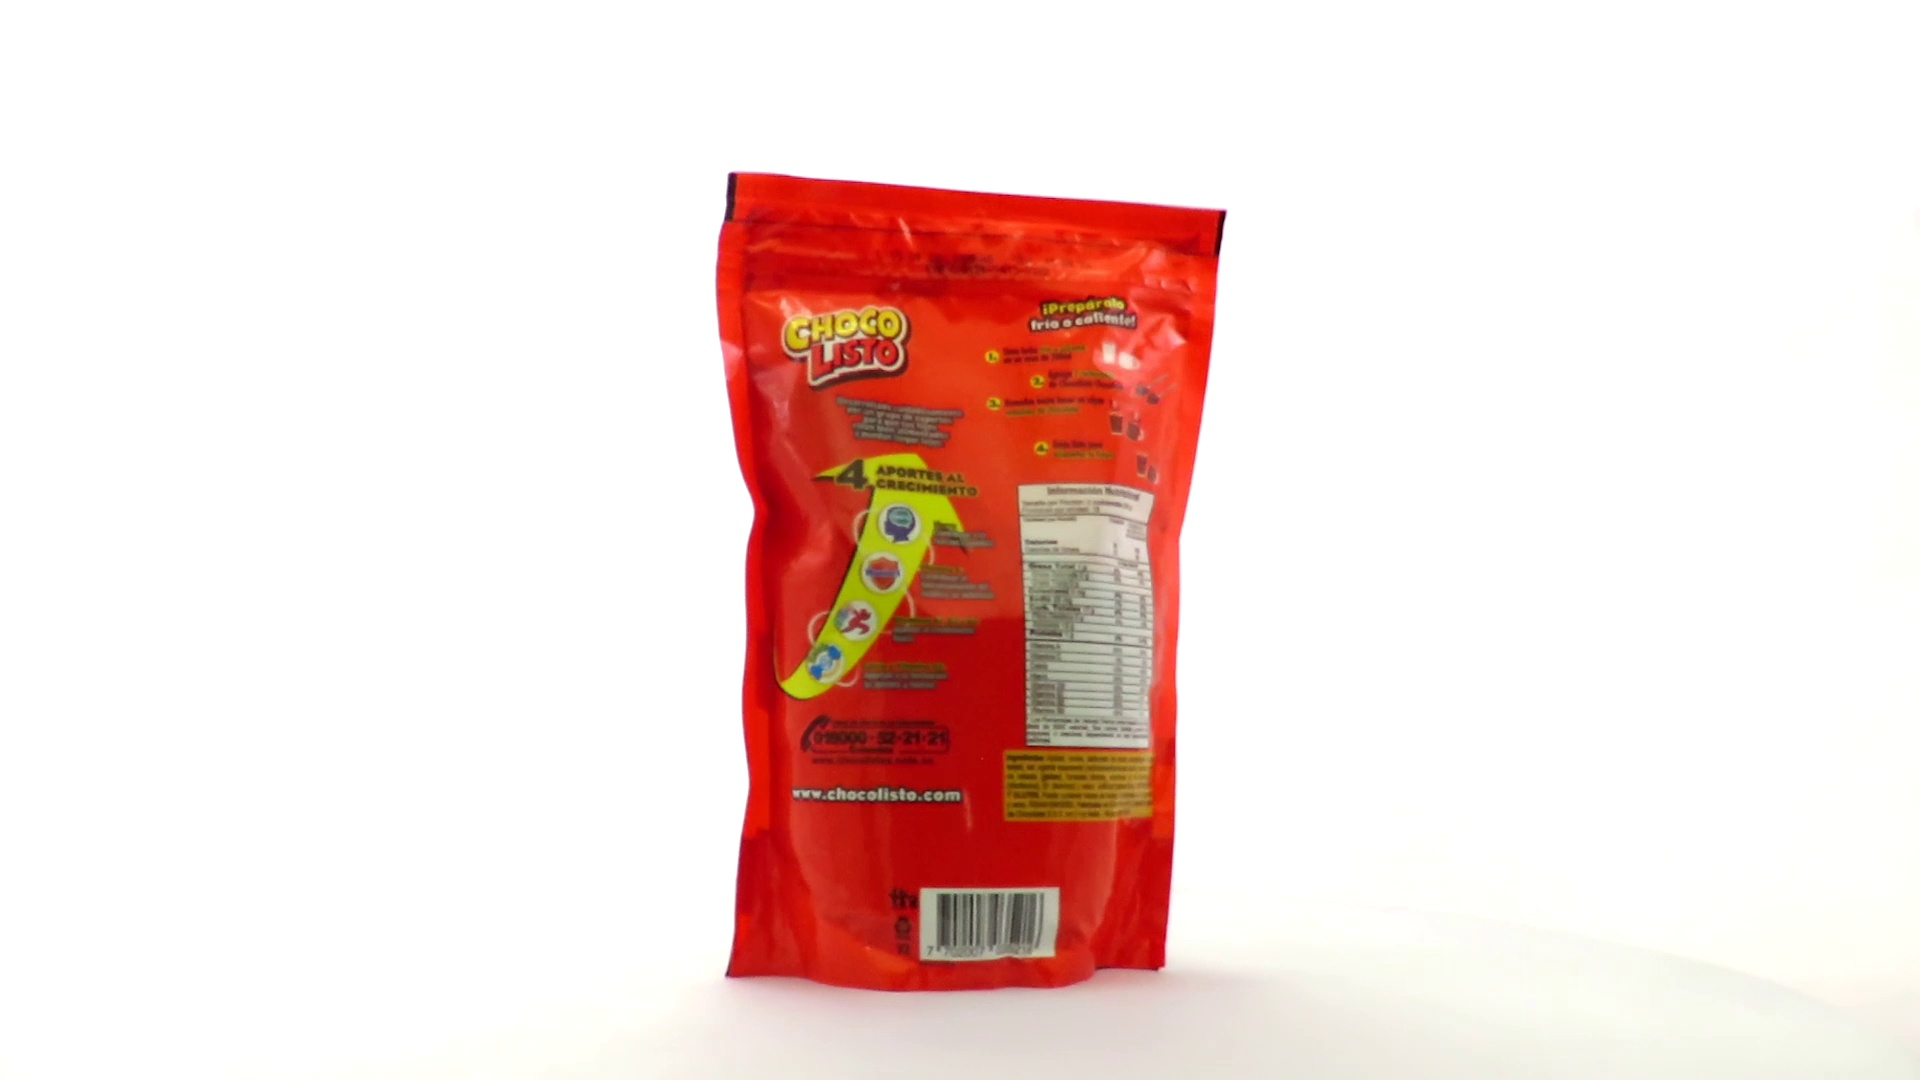COL0170103DYP36000: (709, 167, 1232, 1000)
